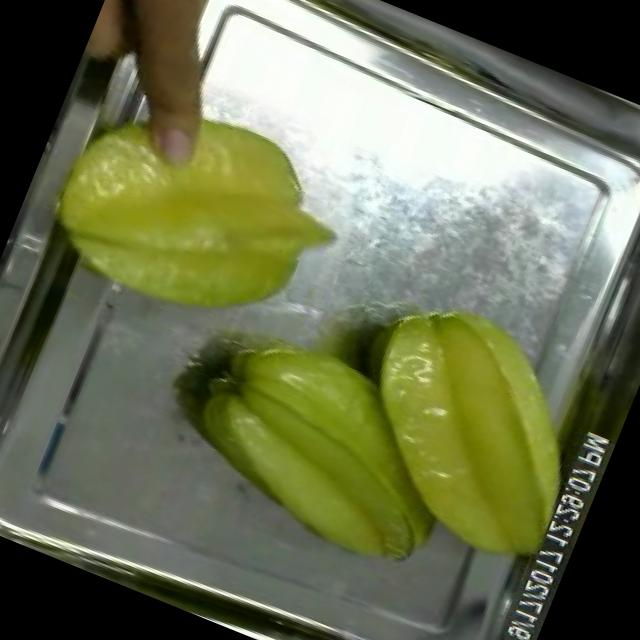fruit: (15, 58, 355, 369), (154, 298, 496, 596), (314, 275, 626, 590)
